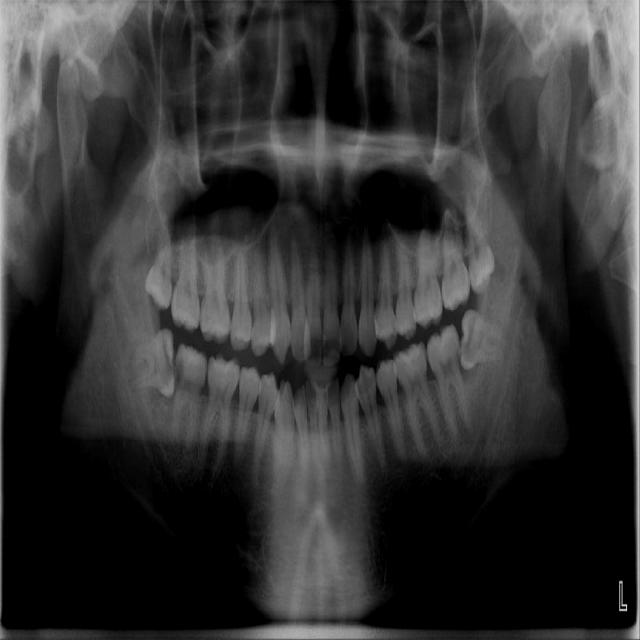Caries: (173, 355, 185, 401)
impacted tooth: (115, 328, 175, 397), (461, 310, 509, 368), (466, 198, 493, 290), (145, 225, 172, 308)
